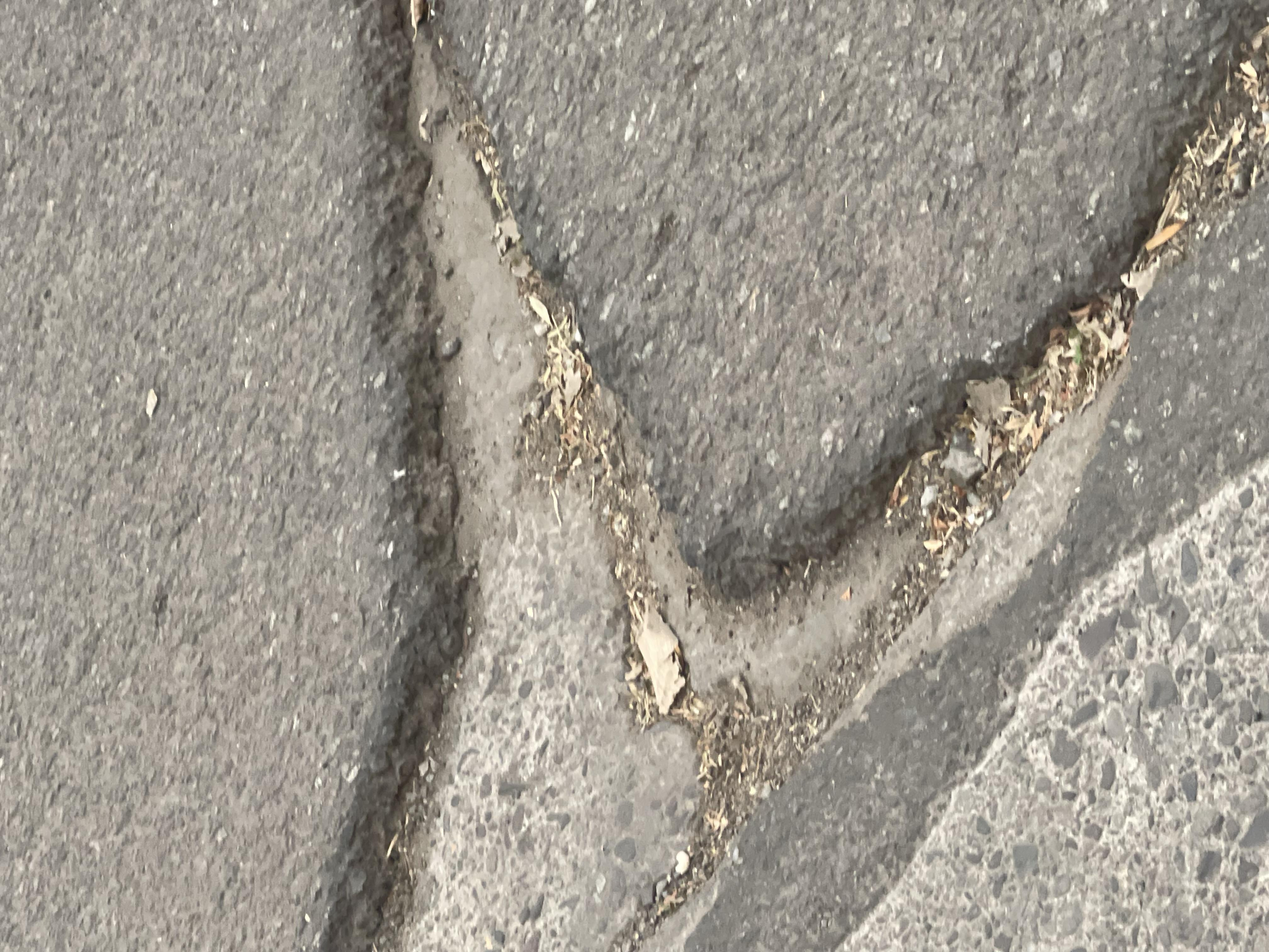GRIETA: (330, 1, 1268, 952)
